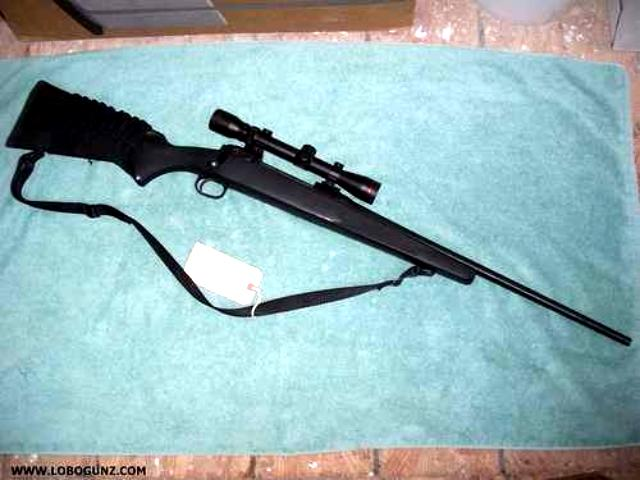rifle: (2, 60, 640, 394)
